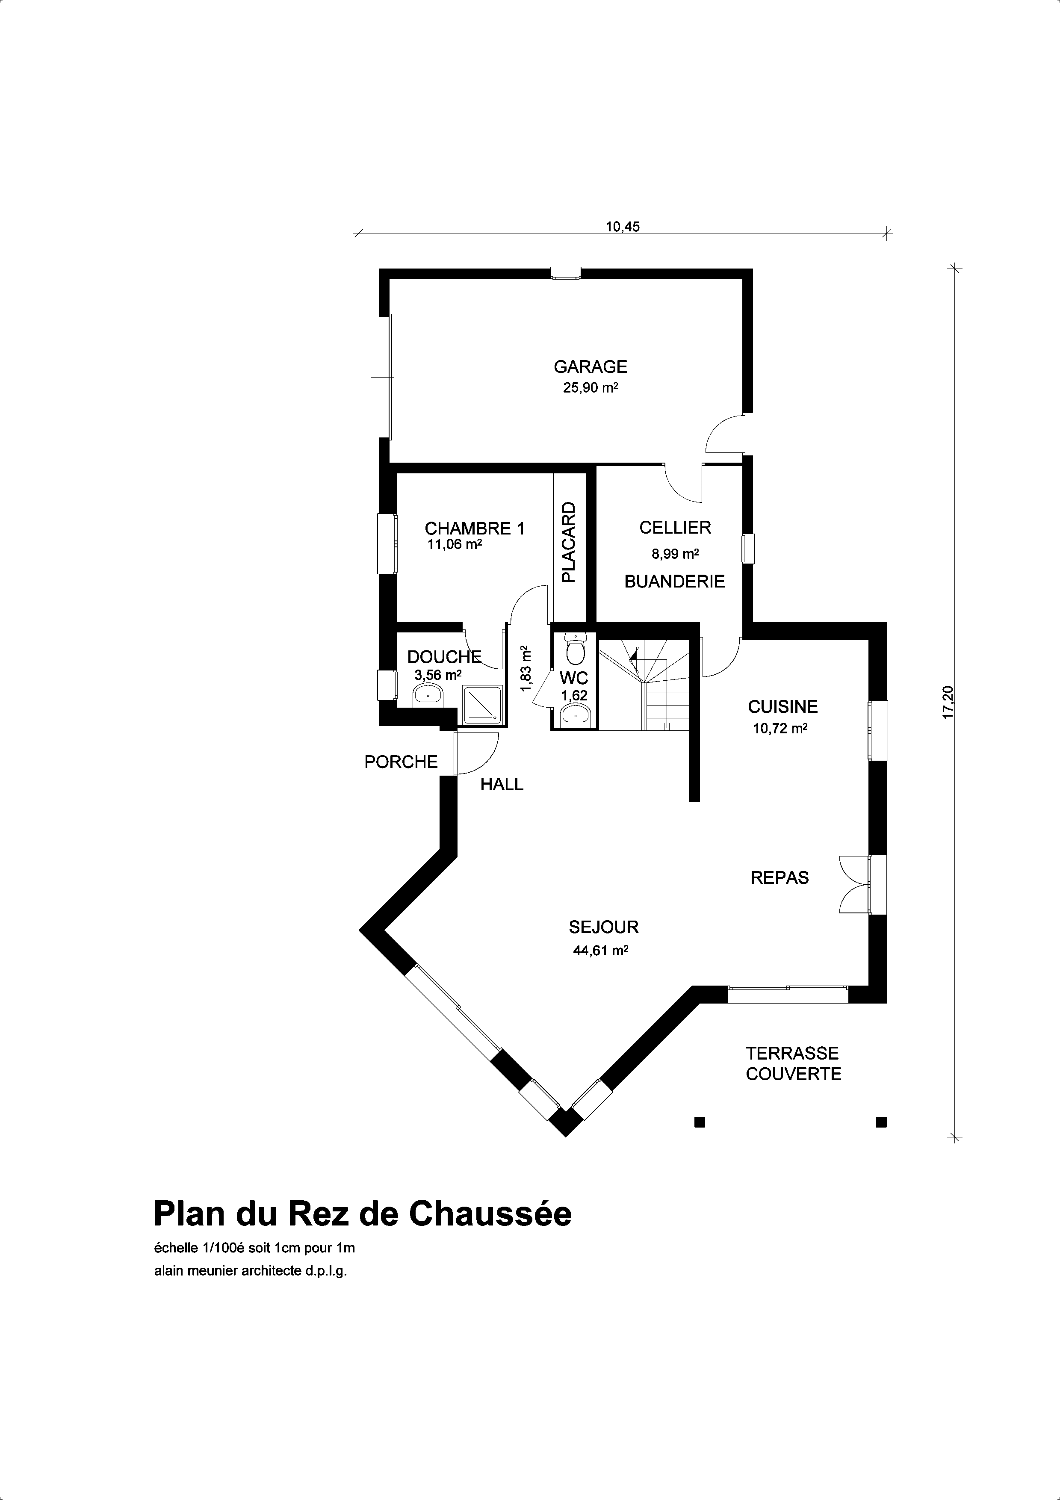ceramic sink: (559, 702, 592, 729), (412, 681, 444, 709)
door: (453, 731, 499, 778), (507, 584, 551, 626), (662, 462, 706, 503), (462, 628, 505, 670), (699, 636, 742, 677), (706, 413, 745, 458), (531, 667, 554, 711)
sliding door: (402, 959, 506, 1063), (726, 983, 849, 1005)
square bath tab: (462, 685, 502, 725)
toilet: (564, 632, 587, 666)
window: (837, 854, 887, 916), (517, 1076, 563, 1122), (569, 1077, 614, 1122), (376, 511, 400, 576), (865, 700, 888, 763), (377, 669, 398, 701), (550, 266, 582, 281), (740, 533, 755, 565)
